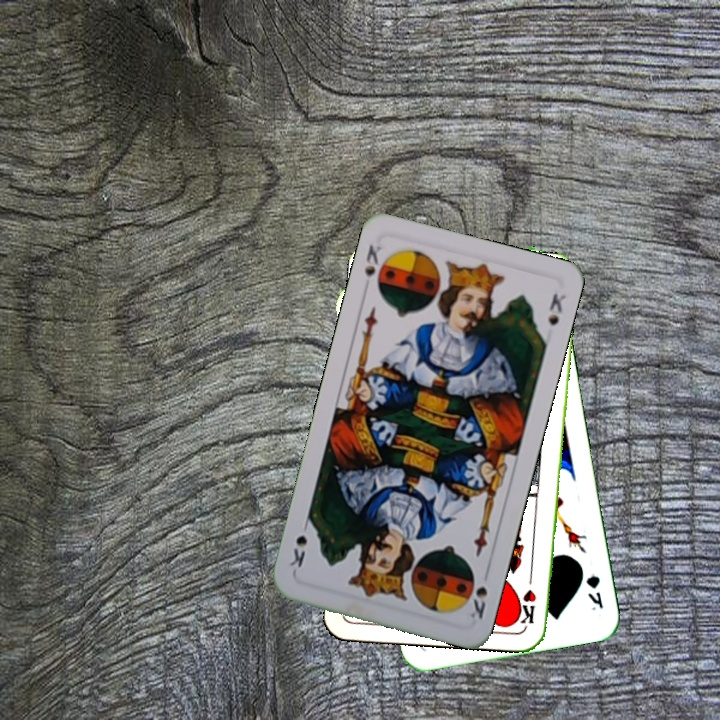GK: (582, 571, 606, 614)
HK: (517, 567, 539, 627)
SK: (359, 240, 385, 295), (463, 582, 490, 622)
